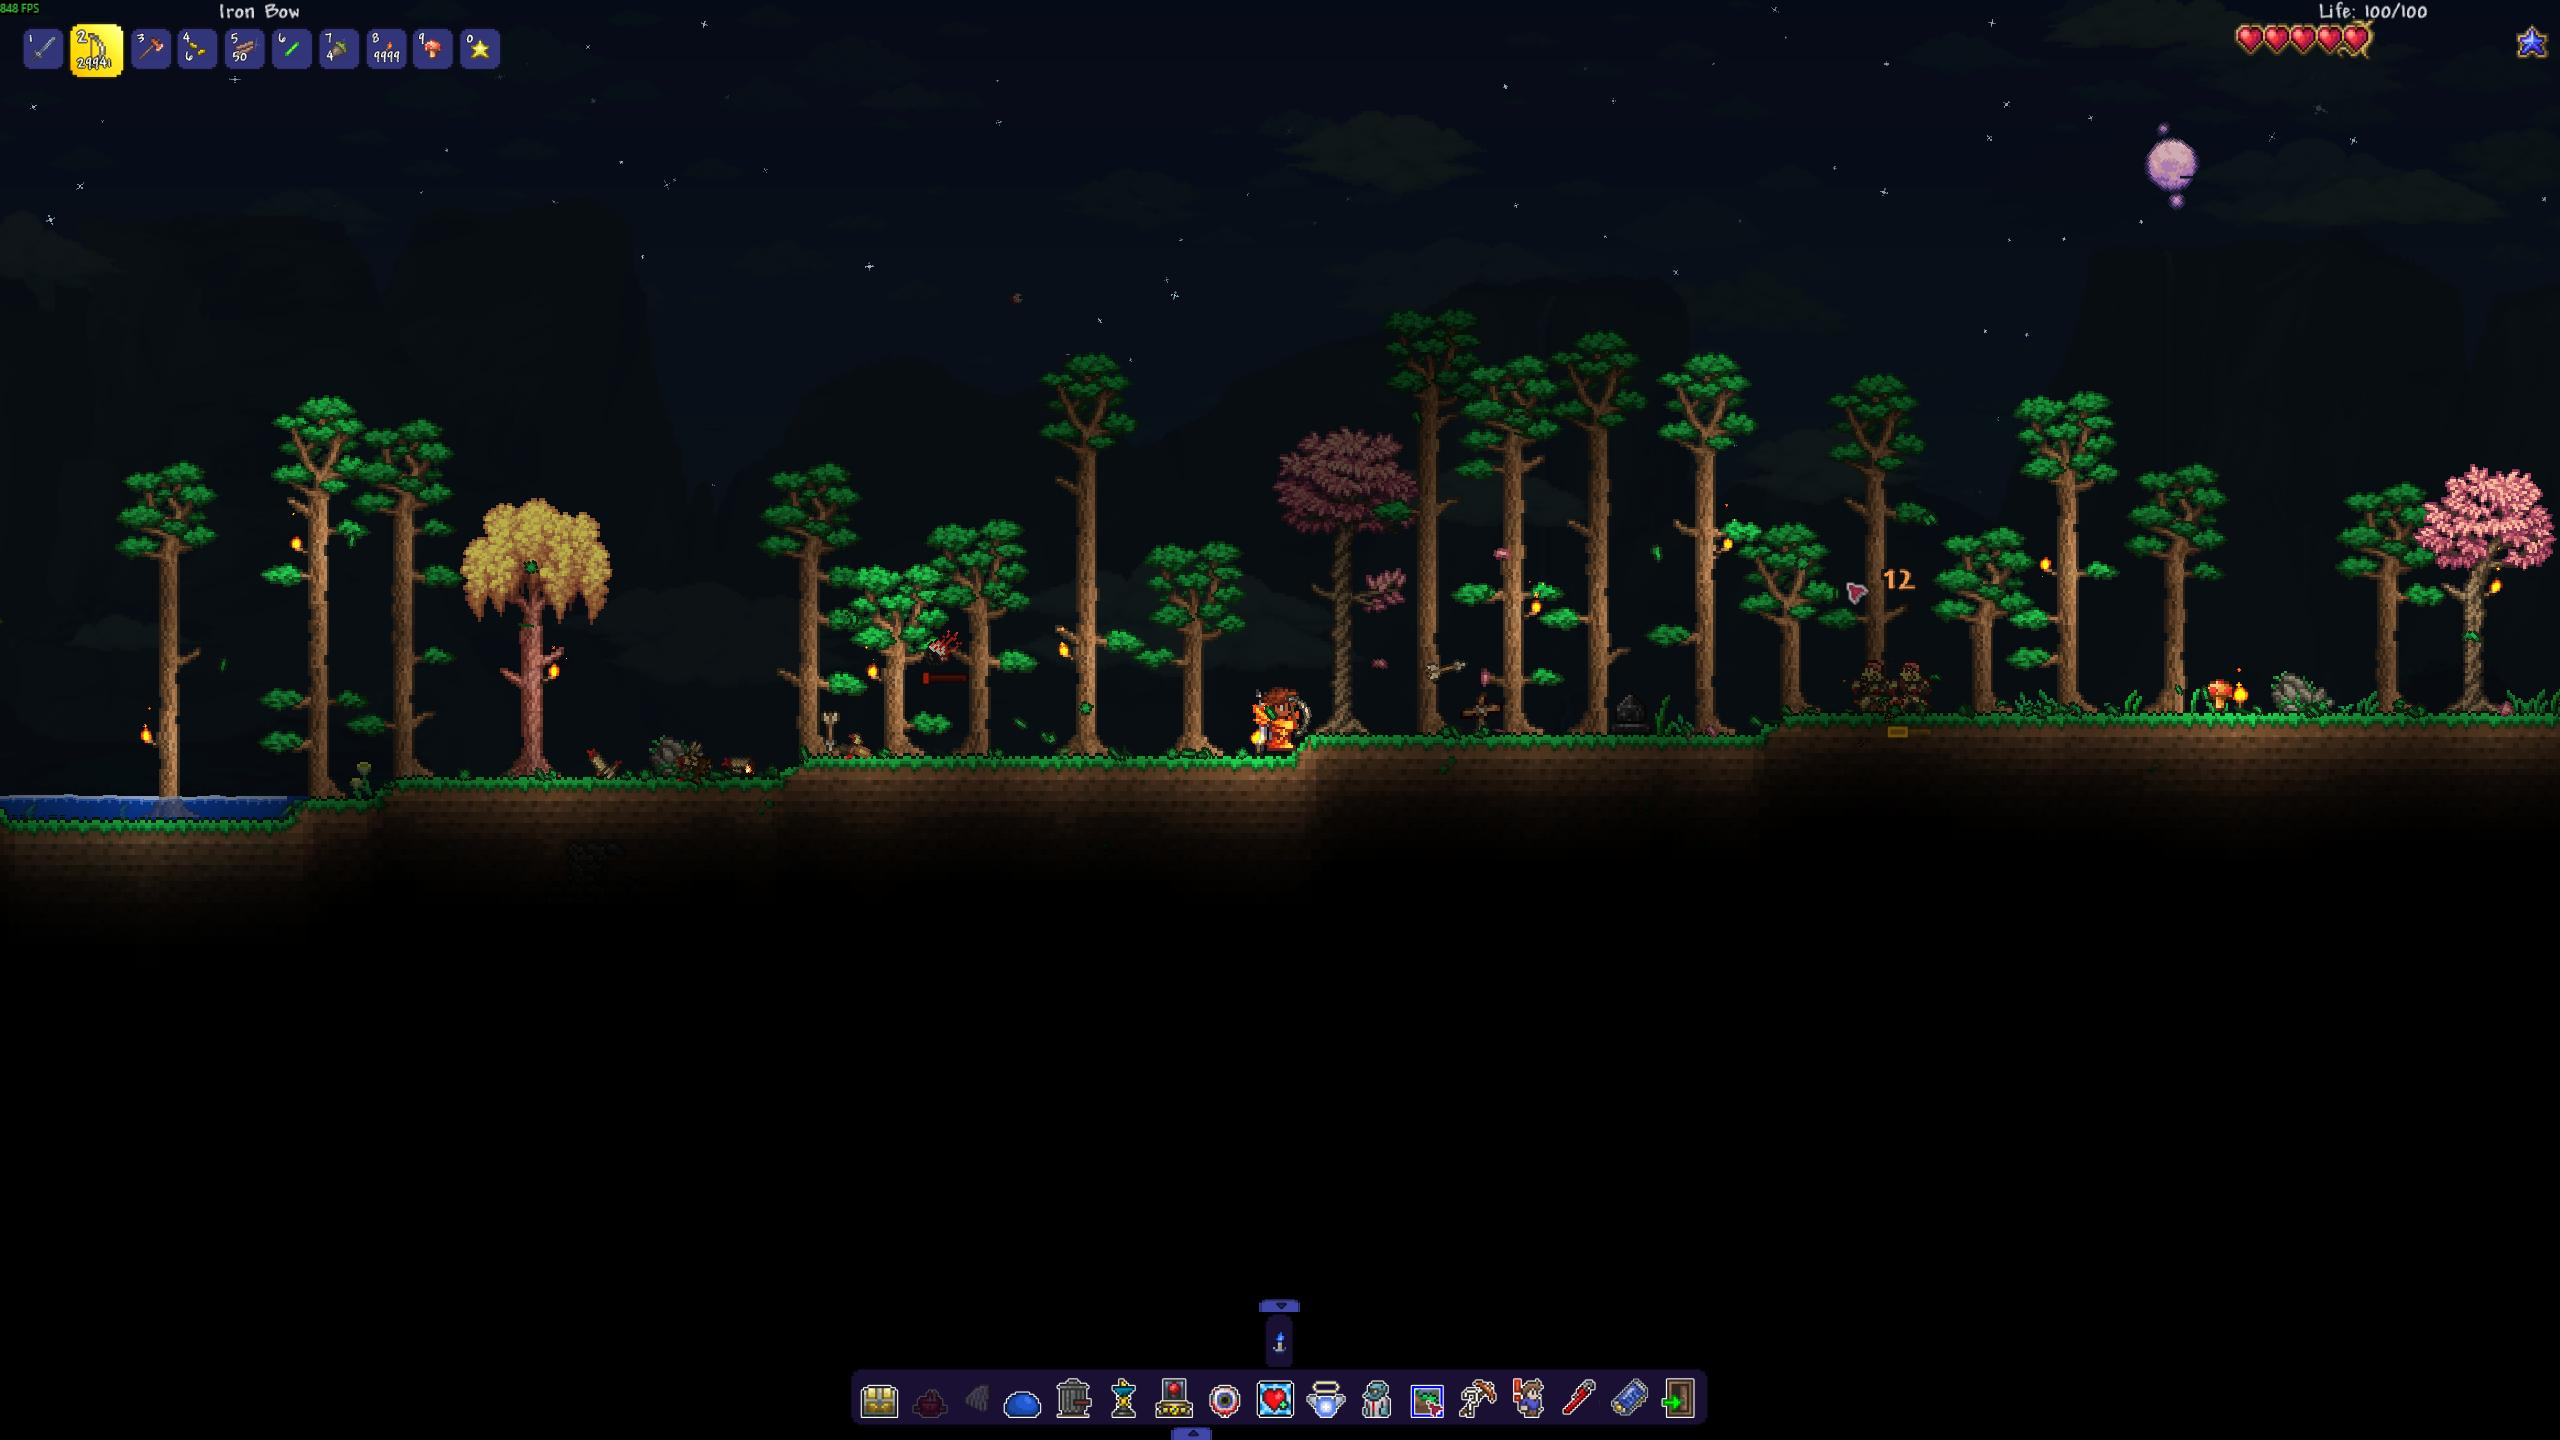Demon Eye: (918, 628, 965, 670)
Zombie: (1846, 656, 1894, 712), (1890, 656, 1936, 710)
